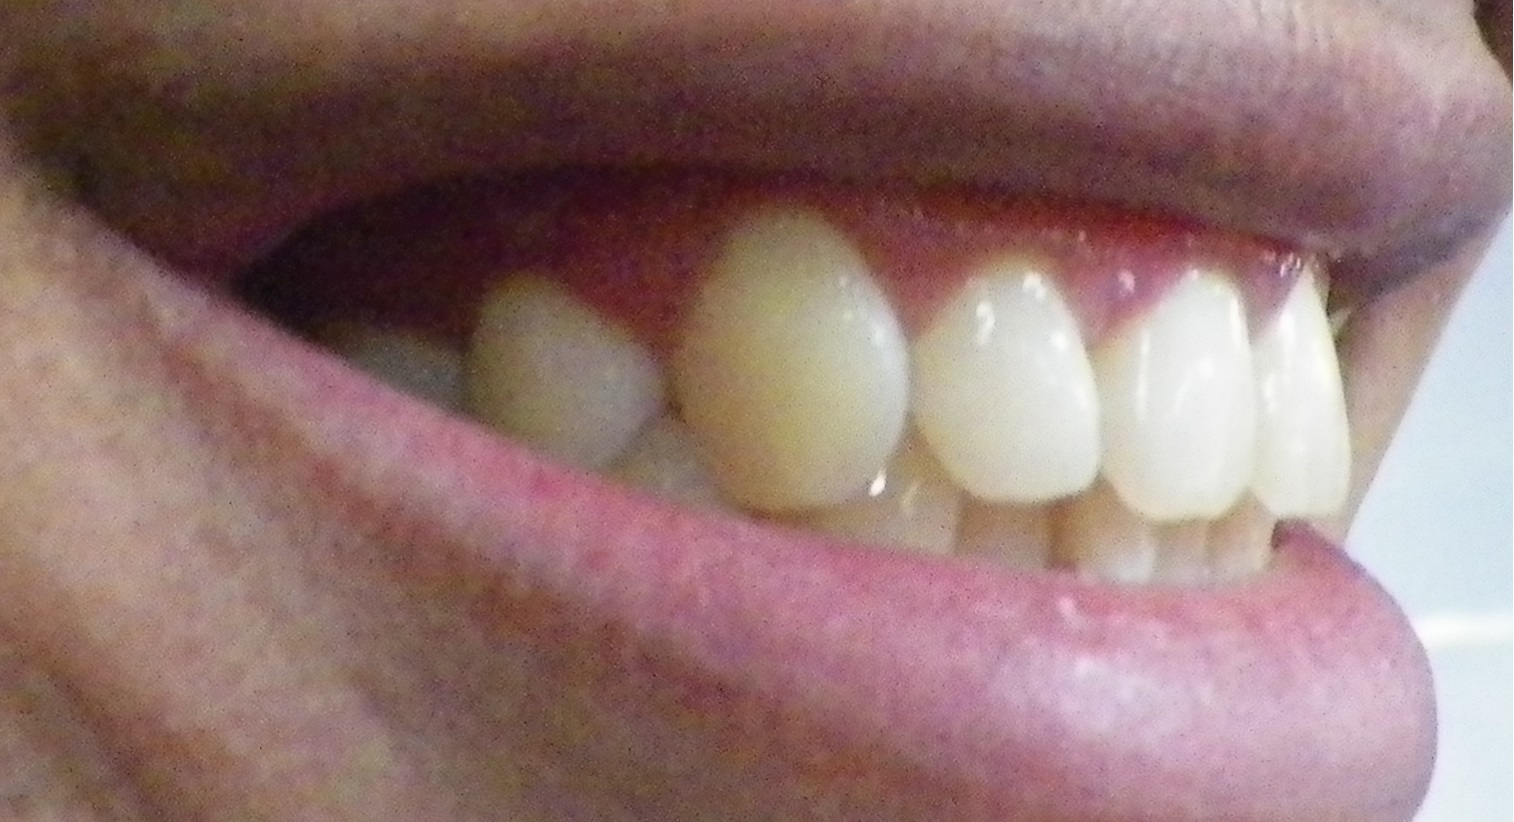boca: (327, 210, 1351, 606)
